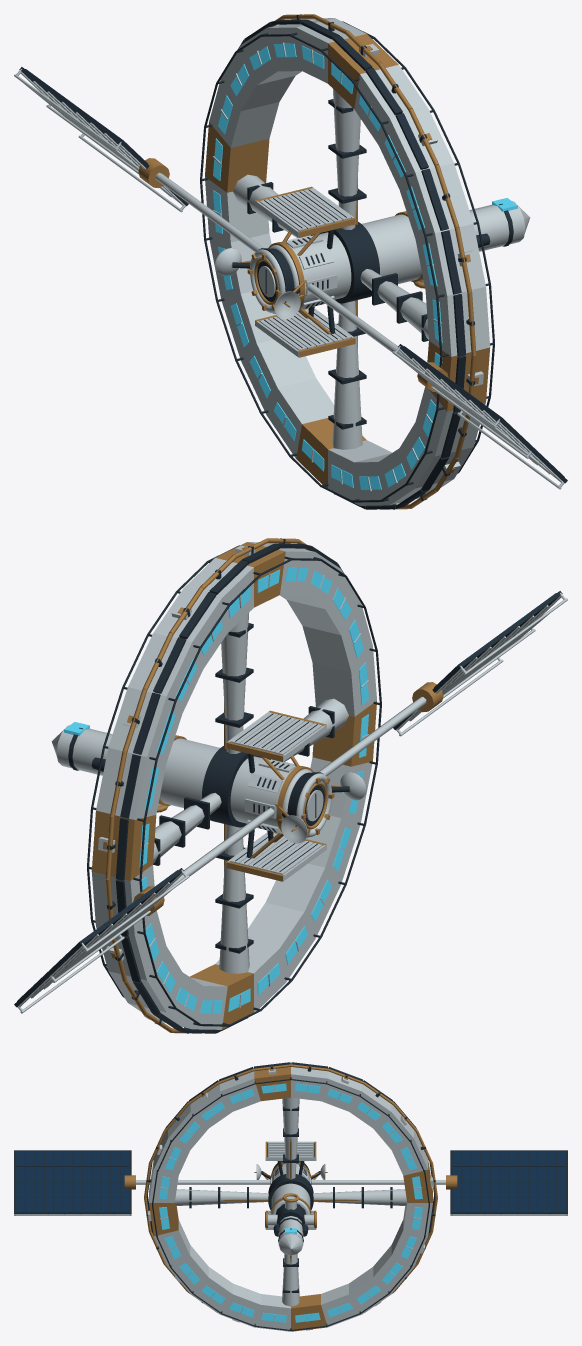
The model's file is orbital-station.glb.
The picture shows the model from 3 angles, top to bottom: view 1: azimuth 30°, elevation 25°; view 2: azimuth 150°, elevation 25°; view 3: azimuth 270°, elevation 25°; orthographic projection. The views are drawn at different scales.
Parts seen in each view (by area): view 1: Mesh_FixedHub, Mesh_TaperedSpoke2, Mesh_HabitatWedge_3, Mesh_HabitatWedge_5, Mesh_HabitatWedge_4, Mesh_HabitatWedge_13, Mesh_HabitatWedge_14, Mesh_HabitatWedge_18, Mesh_HabitatWedge_2, Mesh_TaperedSpoke0, Mesh_HabitatWedge_19, Mesh_HabitatWedge_1 (+26 smaller); view 2: Mesh_FixedHub, Mesh_TaperedSpoke2, Mesh_HabitatWedge_19, Mesh_HabitatWedge_10, Mesh_HabitatWedge_20, Mesh_HabitatWedge_9, Mesh_HabitatWedge_21, Mesh_HabitatWedge_18, Mesh_HabitatWedge_5, Mesh_TaperedSpoke0, Mesh_HabitatWedge_4, Mesh_HabitatWedge_22 (+26 smaller); view 3: Mesh_ArrayBacking_-1, Mesh_ArrayBacking_1, Mesh_TaperedSpoke1, Mesh_TaperedSpoke3, Mesh_TaperedSpoke0, Mesh_HabitatWedge_10, Mesh_HabitatWedge_13, Mesh_HabitatWedge_23, Mesh_HabitatWedge_9, Mesh_HabitatWedge_14, Mesh_HabitatWedge_1, Mesh_HabitatWedge_11 (+25 smaller).
Boxes of the visible parts, bbox=[...] form: Mesh_FixedHub: bbox=[269, 214, 421, 304]; Mesh_TaperedSpoke2: bbox=[332, 300, 362, 449]; Mesh_HabitatWedge_3: bbox=[399, 163, 473, 238]; Mesh_HabitatWedge_5: bbox=[425, 286, 490, 356]; Mesh_HabitatWedge_4: bbox=[415, 223, 485, 295]; Mesh_HabitatWedge_13: bbox=[266, 378, 334, 458]; Mesh_HabitatWedge_14: bbox=[241, 339, 316, 414]; Mesh_HabitatWedge_18: bbox=[205, 122, 269, 192]; Mesh_HabitatWedge_2: bbox=[378, 109, 453, 189]; Mesh_TaperedSpoke0: bbox=[332, 88, 360, 229]; Mesh_HabitatWedge_19: bbox=[209, 78, 279, 147]; Mesh_HabitatWedge_1: bbox=[354, 65, 428, 144]; Mesh_FixedHub: bbox=[160, 738, 312, 828]; Mesh_TaperedSpoke2: bbox=[219, 824, 249, 973]; Mesh_HabitatWedge_19: bbox=[96, 747, 166, 819]; Mesh_HabitatWedge_10: bbox=[247, 902, 315, 982]; Mesh_HabitatWedge_20: bbox=[108, 687, 182, 762]; Mesh_HabitatWedge_9: bbox=[265, 863, 340, 938]; Mesh_HabitatWedge_21: bbox=[128, 633, 203, 713]; Mesh_HabitatWedge_18: bbox=[91, 810, 156, 880]; Mesh_HabitatWedge_5: bbox=[312, 646, 376, 716]; Mesh_TaperedSpoke0: bbox=[221, 612, 249, 753]; Mesh_HabitatWedge_4: bbox=[302, 602, 372, 671]; Mesh_HabitatWedge_22: bbox=[153, 589, 227, 668]; Mesh_ArrayBacking_-1: bbox=[450, 1150, 567, 1214]; Mesh_ArrayBacking_1: bbox=[14, 1150, 131, 1214]; Mesh_TaperedSpoke1: bbox=[175, 1189, 268, 1205]; Mesh_TaperedSpoke3: bbox=[313, 1189, 406, 1205]; Mesh_TaperedSpoke0: bbox=[282, 1097, 299, 1178]; Mesh_HabitatWedge_10: bbox=[220, 1283, 260, 1327]; Mesh_HabitatWedge_13: bbox=[321, 1283, 361, 1327]; Mesh_HabitatWedge_23: bbox=[291, 1063, 327, 1101]; Mesh_HabitatWedge_9: bbox=[191, 1267, 232, 1314]; Mesh_HabitatWedge_14: bbox=[349, 1267, 390, 1314]; Mesh_HabitatWedge_1: bbox=[220, 1068, 260, 1111]; Mesh_HabitatWedge_11: bbox=[254, 1294, 290, 1331].
Size of the model in its own units: 13.23 by 20.5 by 38.6.
